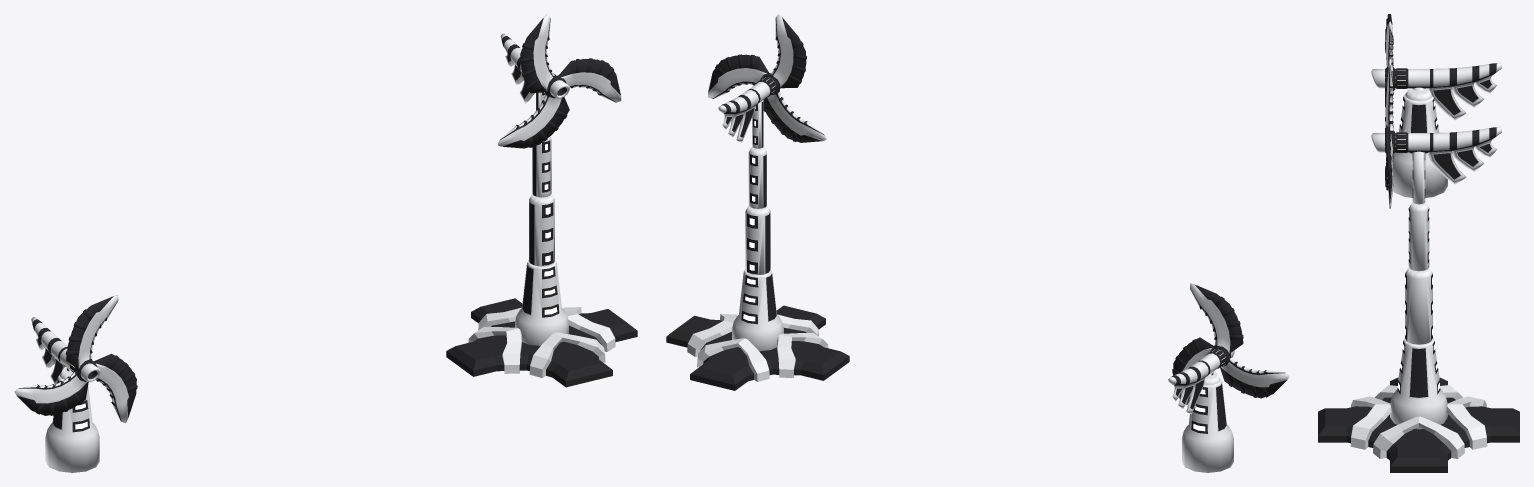
File: wind_turbine.glb
The picture shows the model from 3 angles, left to right: view 1: azimuth 30°, elevation 25°; view 2: azimuth 150°, elevation 25°; view 3: azimuth 270°, elevation 25°; orthographic projection. The views are drawn at different scales.
Visible parts, largest first — view 1: WindPowerPlant_Foundation, WindPowerPlant_Body.001, WindPowerPlant_Body, WindPowerPlant_Wing.002, WindPowerPlant_Wing.004, WindPowerPlant_Wing, WindPowerPlant_NeckLower, WindPowerPlant_Wing.003, WindPowerPlant_Wing.001, WindPowerPlant_Wing.005, WindPowerPlant_NeckUpper.001, WindPowerPlant_NeckMedium (+1 smaller); view 2: WindPowerPlant_Foundation, WindPowerPlant_Body.001, WindPowerPlant_Body, WindPowerPlant_Wing.003, WindPowerPlant_Wing, WindPowerPlant_NeckLower, WindPowerPlant_Wing.001, WindPowerPlant_Wing.004, WindPowerPlant_Wing.002, WindPowerPlant_NeckUpper, WindPowerPlant_NeckMedium, WindPowerPlant_NeckUpper.001 (+3 smaller); view 3: WindPowerPlant_Foundation, WindPowerPlant_Body, WindPowerPlant_NeckUpper, WindPowerPlant_Body.001, WindPowerPlant_NeckUpper.001, WindPowerPlant_NeckLower, WindPowerPlant_NeckMedium, WindPowerPlant_Part, WindPowerPlant_Part.001, WindPowerPlant_Wing.001, WindPowerPlant_Wing, WindPowerPlant_Wing.003 (+1 smaller).
Boxes of the visible parts, bbox=[...] form: WindPowerPlant_Foundation: bbox=[446, 298, 637, 387]; WindPowerPlant_Body.001: bbox=[45, 374, 99, 472]; WindPowerPlant_Body: bbox=[515, 260, 568, 345]; WindPowerPlant_Wing.002: bbox=[497, 92, 569, 148]; WindPowerPlant_Wing.004: bbox=[14, 369, 88, 415]; WindPowerPlant_Wing: bbox=[519, 14, 557, 93]; WindPowerPlant_NeckLower: bbox=[529, 194, 554, 266]; WindPowerPlant_Wing.003: bbox=[65, 295, 118, 370]; WindPowerPlant_Wing.001: bbox=[556, 58, 621, 102]; WindPowerPlant_Wing.005: bbox=[93, 353, 137, 422]; WindPowerPlant_NeckUpper.001: bbox=[31, 317, 100, 381]; WindPowerPlant_NeckMedium: bbox=[532, 136, 551, 197]; WindPowerPlant_Foundation: bbox=[666, 305, 849, 390]; WindPowerPlant_Body.001: bbox=[1182, 378, 1233, 472]; WindPowerPlant_Body: bbox=[732, 269, 783, 351]; WindPowerPlant_Wing.003: bbox=[1190, 283, 1243, 355]; WindPowerPlant_Wing: bbox=[767, 14, 806, 89]; WindPowerPlant_NeckLower: bbox=[745, 205, 770, 274]; WindPowerPlant_Wing.001: bbox=[707, 54, 769, 98]; WindPowerPlant_Wing.004: bbox=[1220, 354, 1289, 398]; WindPowerPlant_Wing.002: bbox=[763, 89, 826, 142]; WindPowerPlant_NeckUpper: bbox=[718, 77, 776, 148]; WindPowerPlant_NeckMedium: bbox=[748, 146, 766, 208]; WindPowerPlant_NeckUpper.001: bbox=[1168, 349, 1234, 385]; WindPowerPlant_Foundation: bbox=[1318, 377, 1519, 472]; WindPowerPlant_Body: bbox=[1390, 338, 1447, 429]; WindPowerPlant_NeckUpper: bbox=[1371, 126, 1501, 204]; WindPowerPlant_Body.001: bbox=[1393, 93, 1447, 197]; WindPowerPlant_NeckUpper.001: bbox=[1371, 62, 1501, 90]; WindPowerPlant_NeckLower: bbox=[1405, 267, 1432, 344]; WindPowerPlant_NeckMedium: bbox=[1408, 202, 1429, 271]; WindPowerPlant_Part: bbox=[1428, 139, 1497, 184]; WindPowerPlant_Part.001: bbox=[1429, 75, 1497, 120]; WindPowerPlant_Wing.001: bbox=[1385, 125, 1395, 208]; WindPowerPlant_Wing: bbox=[1385, 59, 1395, 133]; WindPowerPlant_Wing.003: bbox=[1385, 14, 1395, 74].
Size of the model in its own units: 5309 by 2806 by 1400.
Materials: 1 (1 with a texture image).
